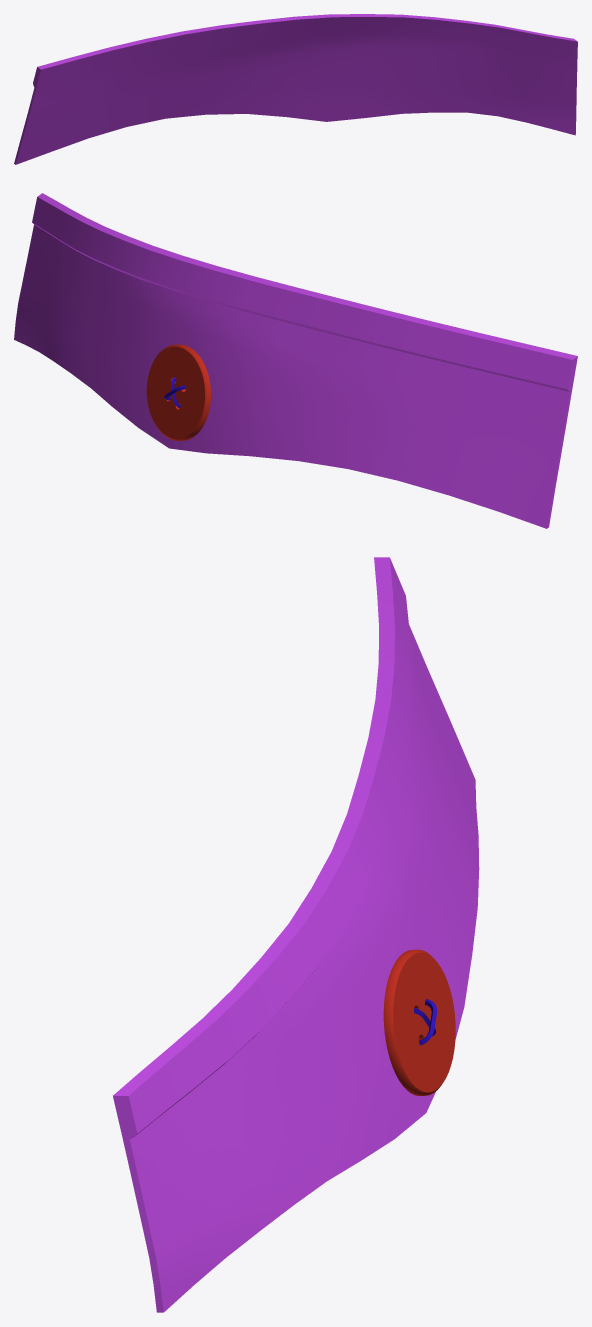
The model's file is SM_CarlosSA_Trousers_BackPockets_1FlapsLB.fbx.
The picture shows the model from 3 angles, top to bottom: view 1: azimuth 30°, elevation 25°; view 2: azimuth 150°, elevation 25°; view 3: azimuth 270°, elevation 25°; orthographic projection. The views are drawn at different scales.
Visible parts, largest first — view 1: SM_CarlosSA_Trousers_BackPockets_1FlapsLB; view 2: SM_CarlosSA_Trousers_BackPockets_1FlapsLB; view 3: SM_CarlosSA_Trousers_BackPockets_1FlapsLB.
Part boxes in pixels (x1,y1,x2,y2): SM_CarlosSA_Trousers_BackPockets_1FlapsLB: (14, 14, 577, 164); SM_CarlosSA_Trousers_BackPockets_1FlapsLB: (14, 193, 577, 528); SM_CarlosSA_Trousers_BackPockets_1FlapsLB: (113, 557, 479, 1312).
Size of the model in its own units: 0.0912 by 0.026 by 0.03.
